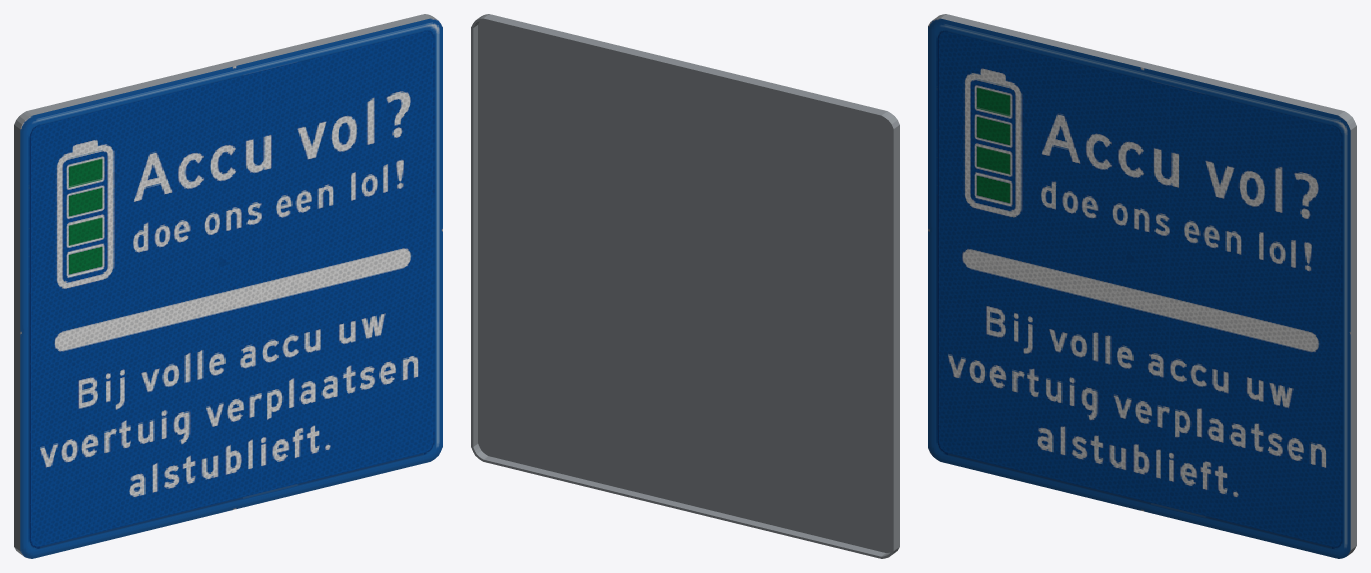
3 renders of one model, left to right at view 1: azimuth 30°, elevation 25°; view 2: azimuth 150°, elevation 25°; view 3: azimuth 330°, elevation 25°, orthographic.
Parts seen in each view (by area): view 1: cat_4e0d5974cafdcc78; view 2: cat_4e0d5974cafdcc78; view 3: cat_4e0d5974cafdcc78.
Part boxes in pixels (<box>): cat_4e0d5974cafdcc78: <box>14,14,442,558</box>; cat_4e0d5974cafdcc78: <box>471,14,899,558</box>; cat_4e0d5974cafdcc78: <box>928,14,1356,558</box>.
Bounding box in the file's own units: 0.6 × 0.015 × 0.6014.
2 materials, 1 textured.
